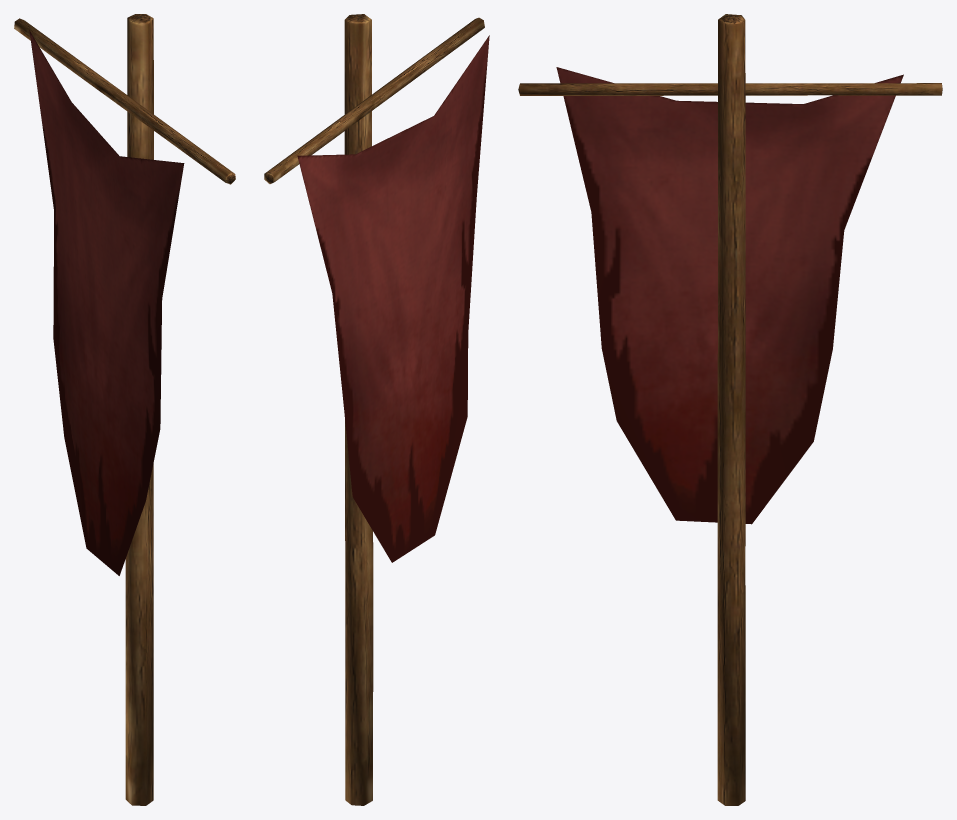
The model's file is flag.FBX.
The picture shows the model from 3 angles, left to right: view 1: azimuth 30°, elevation 25°; view 2: azimuth 150°, elevation 25°; view 3: azimuth 270°, elevation 25°; orthographic projection.
Visible parts, largest first — view 1: flag; view 2: flag; view 3: flag.
Part boxes in pixels (x1=…): flag: x1=14, y1=14, x2=235, y2=805; flag: x1=264, y1=14, x2=489, y2=805; flag: x1=518, y1=14, x2=942, y2=805.
Size of the model in its own units: 4.41 by 52.51 by 25.68.
